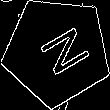N_SW: (26, 21, 88, 81)
